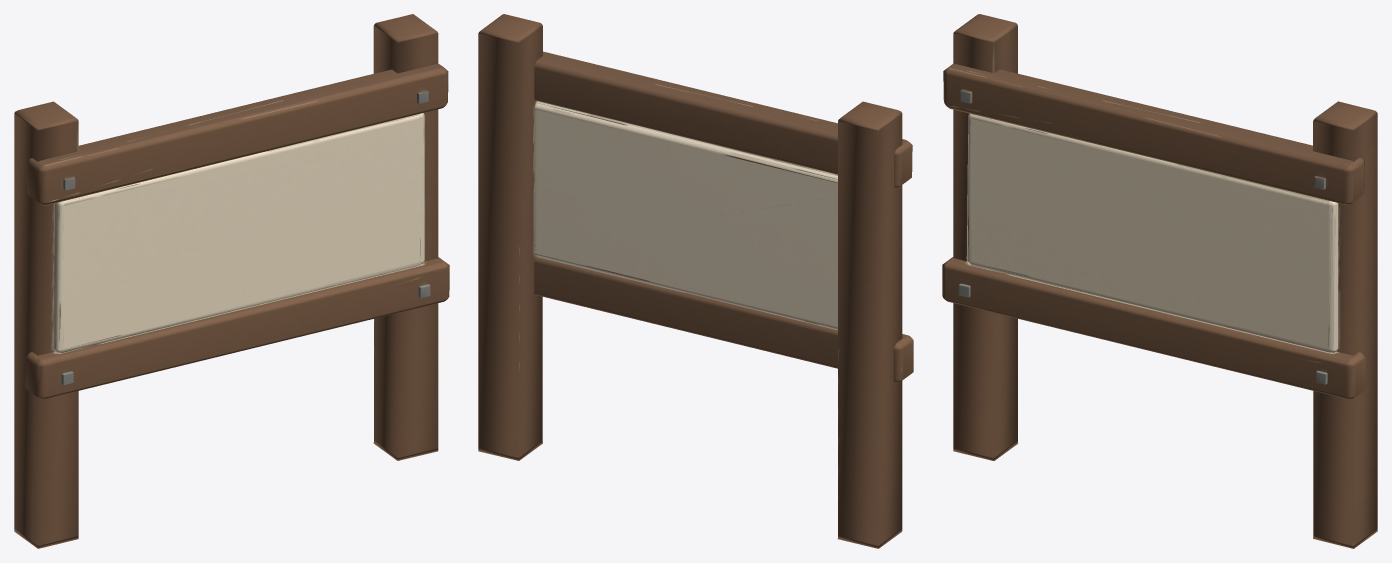
The model's file is signboard.glb.
3 renders of one model, left to right at view 1: azimuth 30°, elevation 25°; view 2: azimuth 150°, elevation 25°; view 3: azimuth 330°, elevation 25°, orthographic.
Size of the model in its own units: 0.957 by 0.9424 by 0.1377.
1 material, 1 textured.
